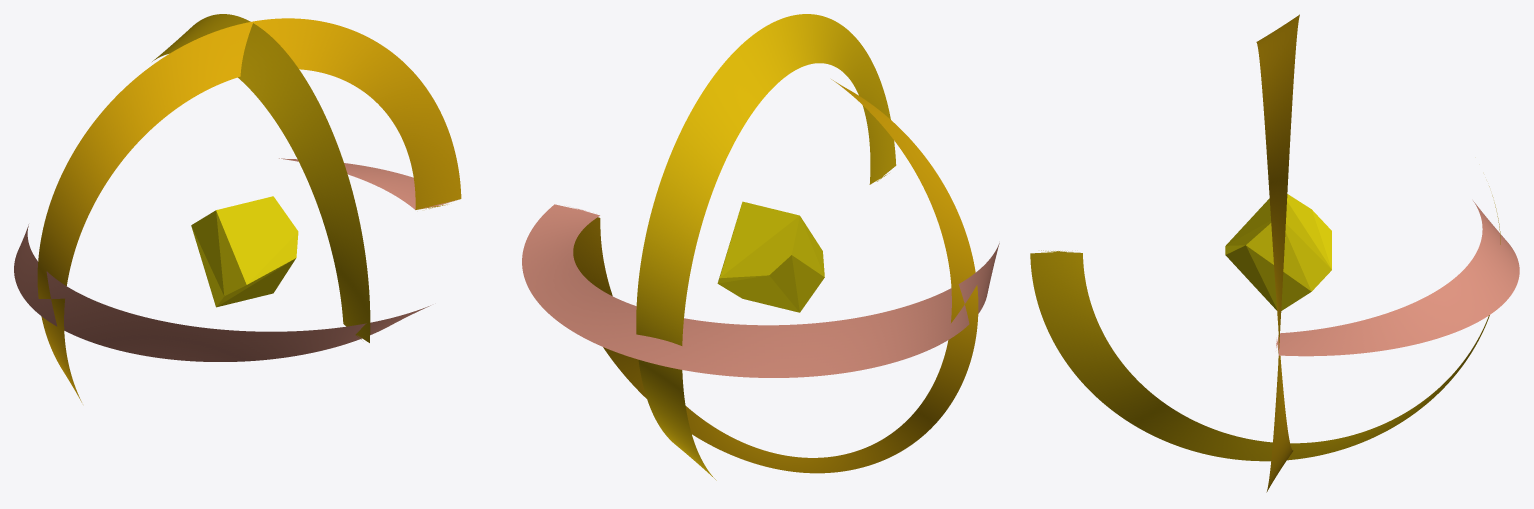
File: golden_polyhedron_kleinbottle_3x_mobius_v2.glb
The picture shows the model from 3 angles, left to right: view 1: azimuth 30°, elevation 25°; view 2: azimuth 150°, elevation 25°; view 3: azimuth 270°, elevation 25°; orthographic projection.
Parts seen in each view (by area): view 1: mobius_z, mobius_y, mobius_x, golden_core; view 2: mobius_y, mobius_x, mobius_z, golden_core; view 3: mobius_y, mobius_x, mobius_z, golden_core.
Part boxes in pixels (<box>): mobius_z: <box>37,18,461,402</box>; mobius_y: <box>152,14,370,342</box>; mobius_x: <box>14,158,455,361</box>; golden_core: <box>191,196,298,307</box>; mobius_y: <box>636,14,896,480</box>; mobius_x: <box>522,204,999,377</box>; mobius_z: <box>573,79,978,473</box>; golden_core: <box>717,201,824,312</box>; mobius_y: <box>1030,186,1500,461</box>; mobius_x: <box>1276,201,1519,356</box>; mobius_z: <box>1256,14,1299,492</box>; golden_core: <box>1225,194,1331,310</box>.
Size of the model in its own units: 2.72 by 2.78 by 2.83.
